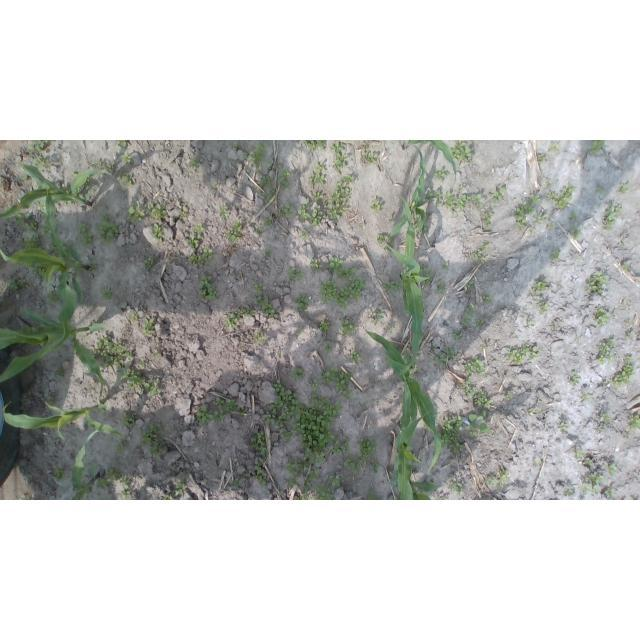Maize: (1, 187, 92, 353), (365, 327, 444, 472), (0, 305, 106, 402), (381, 193, 429, 375), (0, 162, 112, 222), (387, 368, 429, 500), (2, 397, 124, 440), (390, 144, 439, 239), (401, 140, 463, 186), (69, 431, 102, 500), (385, 475, 443, 500)
Weeds: (291, 393, 342, 465), (262, 380, 299, 428), (319, 278, 367, 311), (93, 335, 131, 369), (327, 176, 354, 221), (436, 415, 465, 454), (321, 365, 354, 399), (515, 195, 542, 230), (140, 423, 166, 458), (609, 356, 635, 389), (96, 213, 121, 246), (546, 184, 575, 210), (299, 466, 319, 500), (331, 140, 349, 176), (329, 256, 356, 280), (213, 398, 237, 423), (121, 366, 144, 392), (468, 409, 489, 437), (255, 175, 276, 203), (297, 204, 323, 226), (603, 202, 622, 231), (585, 272, 608, 295), (255, 295, 278, 318), (449, 140, 473, 162), (249, 431, 269, 457), (76, 222, 95, 249), (124, 201, 146, 224), (484, 470, 508, 491), (356, 436, 376, 461), (504, 344, 529, 364), (199, 275, 218, 301), (343, 454, 365, 476), (285, 458, 308, 479), (14, 213, 38, 233), (188, 248, 213, 267), (581, 474, 603, 495), (593, 304, 612, 328), (309, 162, 326, 187), (464, 356, 485, 376), (595, 342, 614, 364), (473, 388, 493, 408), (328, 437, 351, 454), (250, 142, 265, 167), (226, 219, 243, 241), (24, 262, 47, 278), (338, 318, 358, 336), (196, 405, 213, 426), (254, 461, 267, 486), (45, 240, 63, 258), (377, 235, 396, 252), (75, 186, 94, 203), (93, 159, 116, 173), (460, 376, 476, 396), (146, 202, 166, 218), (368, 308, 384, 327), (383, 277, 403, 292), (444, 192, 458, 213), (419, 266, 433, 287), (449, 478, 463, 499), (116, 170, 133, 187), (488, 188, 506, 204), (119, 412, 137, 428), (316, 484, 334, 500), (20, 235, 42, 248), (33, 157, 52, 172), (361, 151, 380, 166), (533, 214, 553, 228), (151, 222, 165, 242), (427, 190, 444, 206), (106, 466, 122, 483), (302, 141, 326, 152), (470, 248, 486, 264), (472, 194, 487, 211), (625, 415, 640, 432), (7, 278, 28, 290), (286, 267, 304, 281), (236, 306, 255, 319), (145, 380, 160, 396), (295, 295, 310, 311), (457, 194, 471, 211), (53, 466, 67, 483), (595, 411, 612, 425), (589, 141, 606, 154), (370, 197, 383, 214), (443, 347, 457, 362), (223, 313, 237, 328), (48, 291, 63, 305), (434, 170, 450, 183), (63, 240, 76, 256), (143, 318, 154, 336), (175, 477, 186, 495), (310, 259, 323, 274), (289, 368, 304, 381), (532, 278, 548, 290), (570, 224, 582, 240), (192, 222, 204, 238), (120, 473, 132, 489), (283, 202, 294, 219), (460, 313, 473, 327), (120, 153, 134, 166), (327, 474, 341, 487), (604, 462, 617, 476), (568, 372, 581, 386), (34, 140, 49, 152), (55, 183, 71, 194), (100, 288, 113, 301), (349, 349, 362, 362), (538, 301, 550, 315), (308, 379, 320, 393), (177, 204, 188, 219), (54, 365, 65, 380), (484, 209, 493, 227), (266, 160, 282, 170), (435, 353, 447, 366), (188, 158, 201, 170), (218, 206, 230, 219), (574, 446, 586, 459), (277, 169, 291, 180), (116, 490, 133, 499), (253, 333, 268, 343), (548, 143, 561, 154), (369, 460, 380, 473), (188, 235, 199, 248), (411, 214, 421, 228), (129, 311, 139, 325), (529, 346, 539, 360), (620, 182, 631, 194), (251, 283, 263, 294), (143, 256, 154, 268), (604, 487, 616, 498), (280, 179, 293, 189), (38, 201, 47, 215), (550, 249, 561, 260), (115, 442, 126, 453), (96, 478, 107, 489), (437, 282, 447, 294), (40, 224, 50, 236), (287, 476, 297, 488), (475, 319, 485, 330), (298, 230, 308, 241), (320, 321, 331, 331), (88, 262, 97, 274), (323, 343, 332, 355), (625, 331, 635, 341), (536, 154, 546, 164), (464, 281, 474, 291), (452, 330, 462, 340), (150, 349, 160, 359), (237, 406, 247, 416), (525, 317, 535, 327), (482, 294, 493, 303), (313, 192, 324, 201), (18, 172, 29, 181), (620, 238, 631, 247), (557, 423, 568, 432), (465, 305, 477, 313), (528, 407, 541, 414), (117, 141, 127, 150), (46, 396, 56, 405), (606, 338, 615, 348), (59, 199, 73, 205), (579, 392, 591, 399), (367, 491, 376, 500), (139, 358, 148, 367), (504, 391, 513, 400), (584, 458, 593, 467), (595, 187, 605, 195), (242, 147, 250, 157), (263, 248, 273, 256), (33, 182, 43, 190), (253, 226, 264, 233), (233, 477, 240, 488), (481, 240, 489, 249), (533, 459, 542, 467), (421, 223, 428, 233), (481, 343, 491, 350), (441, 262, 449, 270), (265, 217, 273, 225), (570, 213, 579, 220), (277, 210, 284, 219), (303, 198, 310, 207), (27, 146, 34, 155), (619, 264, 629, 270), (434, 494, 444, 500), (164, 494, 174, 500), (530, 291, 541, 296), (564, 489, 573, 495), (245, 471, 252, 478), (528, 228, 536, 234), (423, 477, 431, 483), (387, 325, 393, 333), (598, 426, 606, 432), (389, 215, 395, 222), (256, 167, 262, 173), (551, 323, 557, 329), (546, 179, 551, 186), (234, 143, 239, 150), (458, 186, 465, 191), (19, 495, 26, 500), (363, 405, 369, 410), (575, 338, 580, 343), (622, 299, 626, 305), (494, 428, 498, 434), (214, 181, 219, 185), (625, 435, 630, 439), (614, 309, 617, 313), (427, 214, 430, 218), (233, 273, 236, 276)
